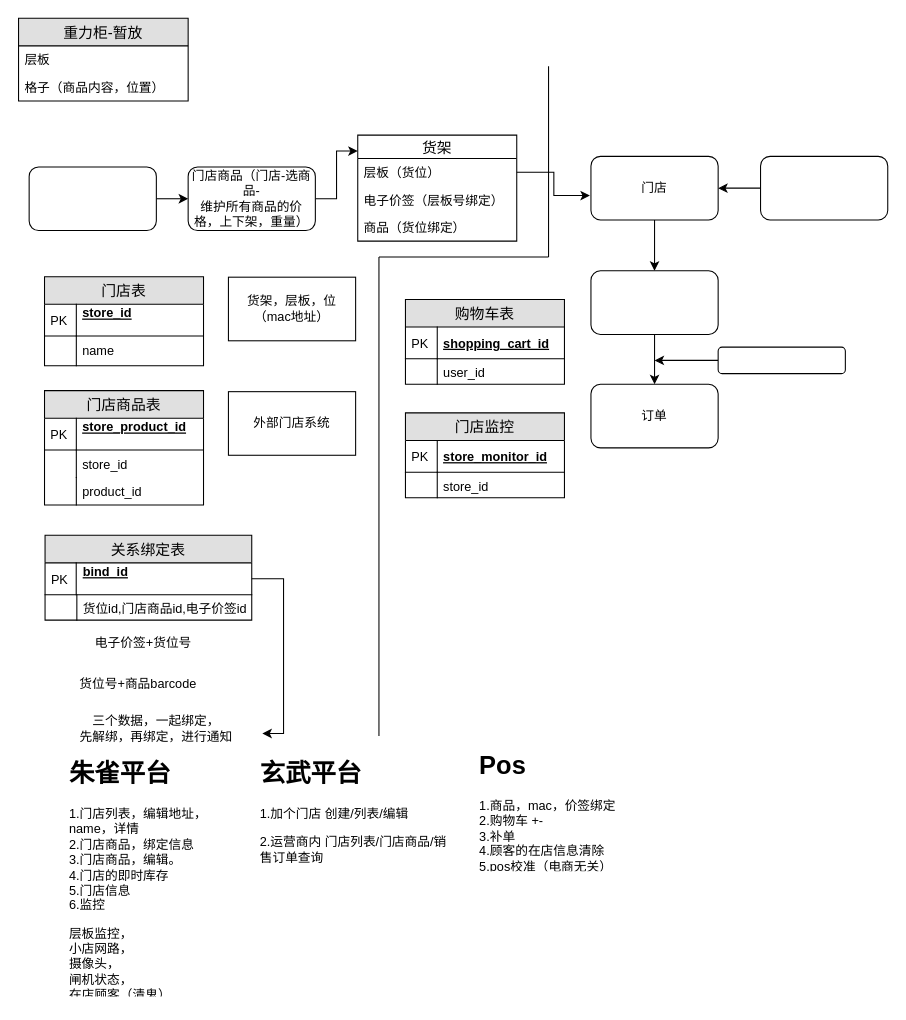
Image size: 906x1020. Some labels were removed from this diagram. The centre of each missing label's shape, as x and y in pixels:
"商品档案库" belongs at [92,198].
"用户唯一表示码" belongs at [823,187].
"购物车" belongs at [654,302].
"闸机进出门逻辑" belongs at [781,360].
